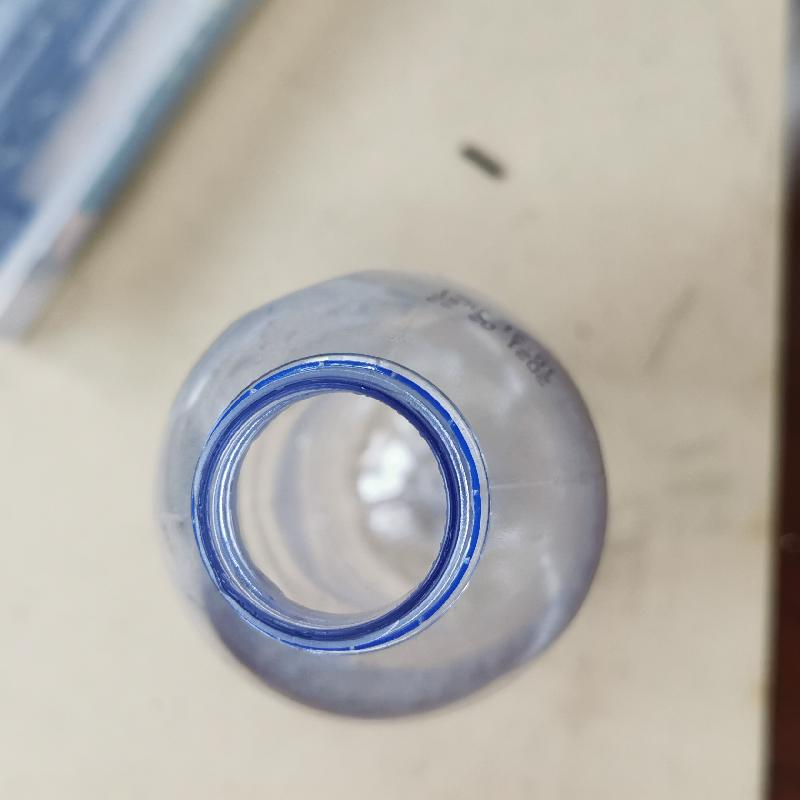bottles: (143, 263, 614, 726)
